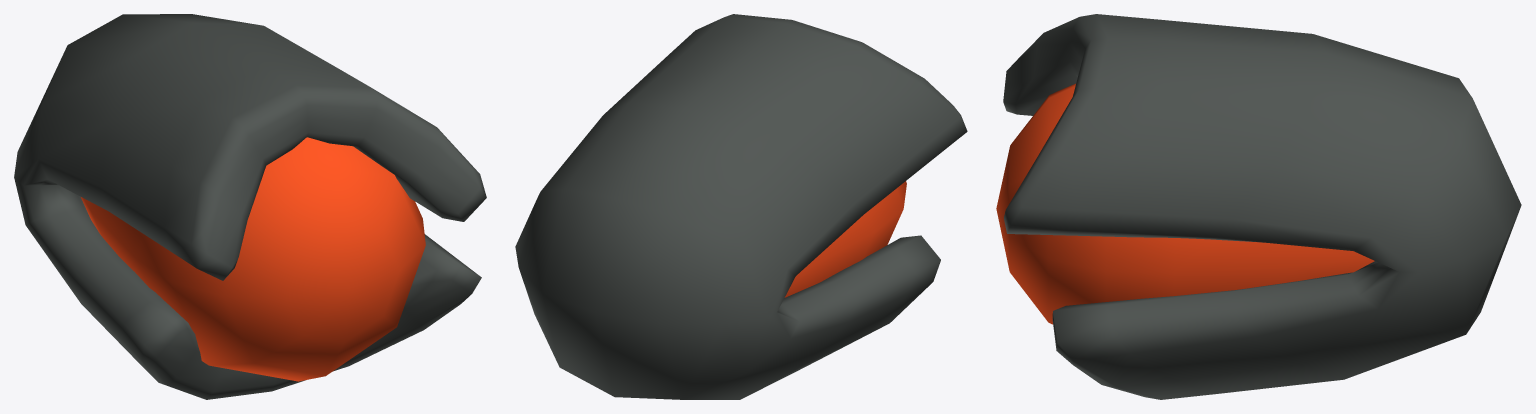
Rendered from xsens_LeftFourthDP.dae.
3 renders of one model, left to right at view 1: azimuth 30°, elevation 25°; view 2: azimuth 150°, elevation 25°; view 3: azimuth 270°, elevation 25°, orthographic. The views are drawn at different scales.
Parts seen in each view (by area): view 1: LeftFourthDP; view 2: LeftFourthDP; view 3: LeftFourthDP.
Boxes of the visible parts, <box> form: LeftFourthDP: <box>14,14,486,399</box>; LeftFourthDP: <box>515,14,967,399</box>; LeftFourthDP: <box>996,14,1521,399</box>.
Size of the model in its own units: 0.0157 by 0.0215 by 0.0154.
